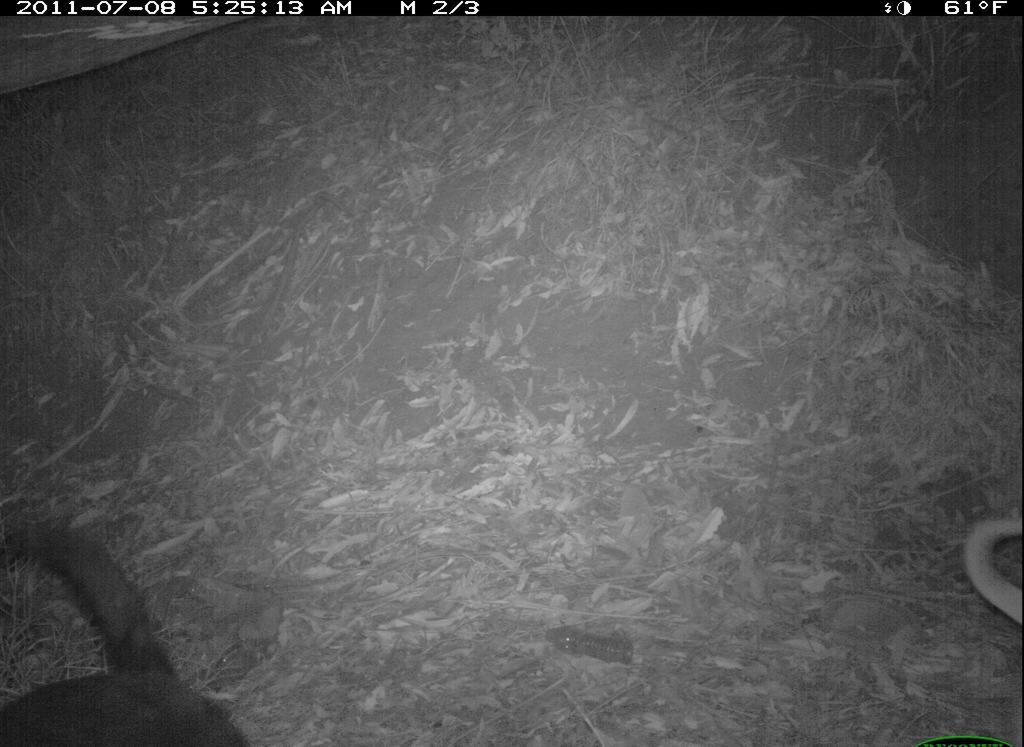dog: (3, 510, 259, 747), (954, 500, 1023, 638)
